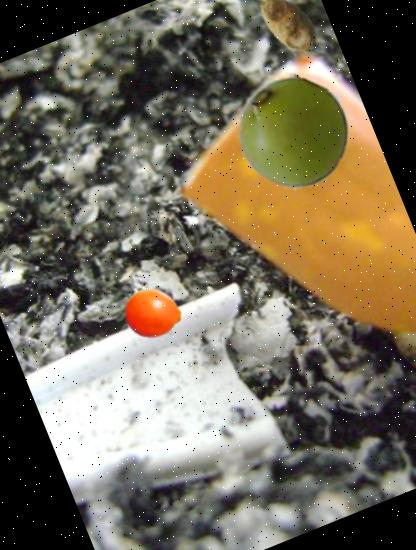Ginger: (243, 0, 334, 69)
Grape: (220, 58, 368, 207)
Tangelo: (116, 277, 190, 351)
